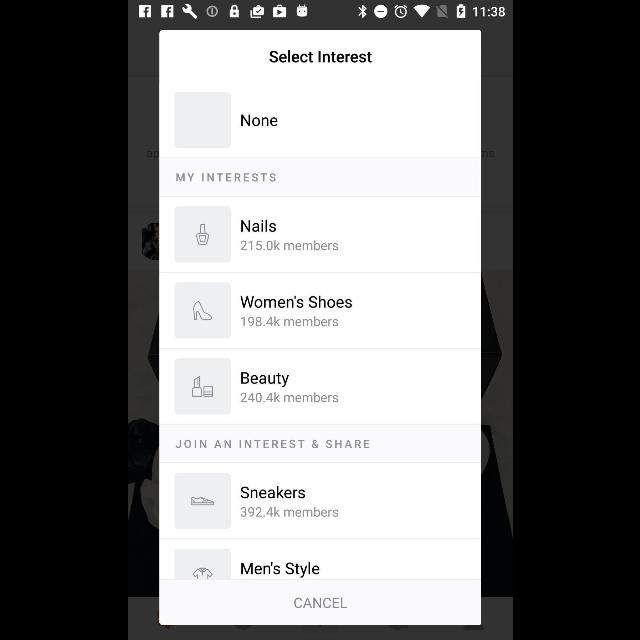image: (192, 377, 212, 398), (192, 302, 212, 321), (196, 224, 208, 244), (192, 568, 212, 578), (191, 497, 213, 505)
panel: (158, 31, 480, 625)
text: (175, 440, 368, 448), (240, 296, 352, 308), (241, 562, 319, 578), (269, 51, 371, 63), (240, 507, 338, 517), (240, 392, 338, 402), (240, 316, 338, 326), (240, 240, 338, 250), (176, 173, 274, 181), (240, 486, 304, 498), (242, 372, 288, 388), (241, 115, 277, 127), (240, 220, 276, 232)
textbutton: (158, 580, 480, 626)
uppertaskbar: (128, 1, 512, 23)
